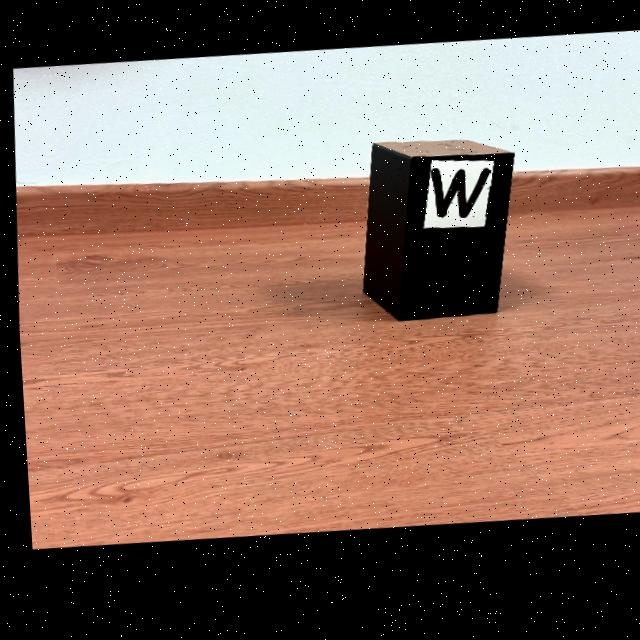W: (429, 177, 487, 227)
